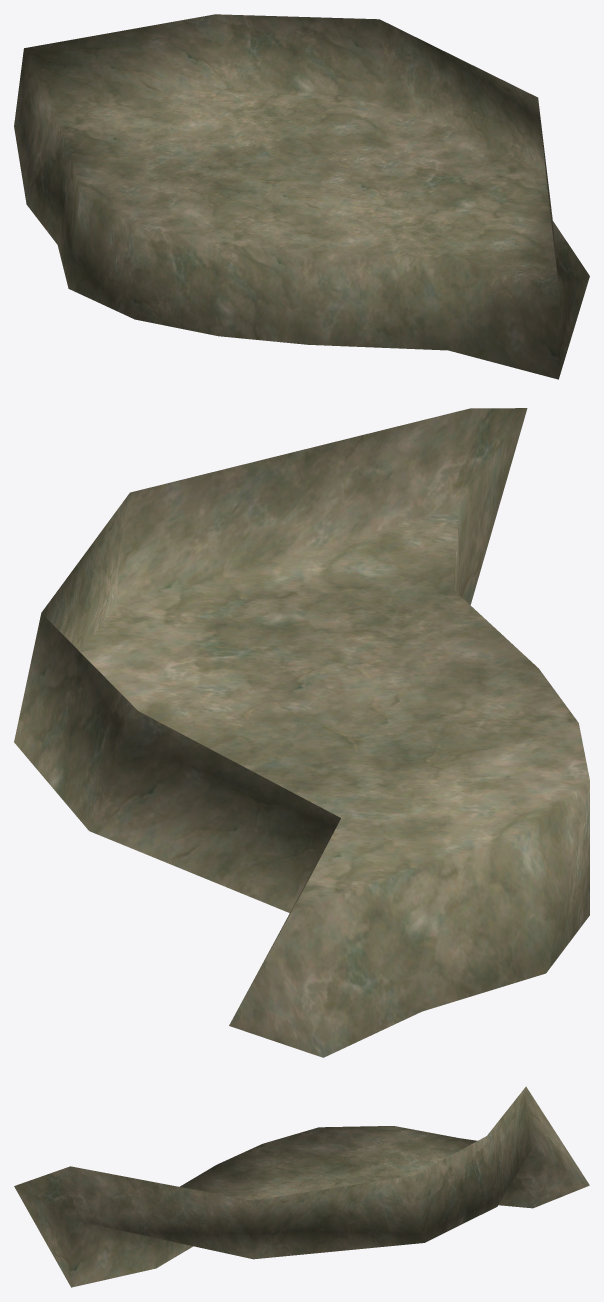
The model's file is EKH_THRONE_PS_TH_PLATFORM648.fbx.
3 renders of one model, top to bottom at view 1: azimuth 30°, elevation 25°; view 2: azimuth 150°, elevation 25°; view 3: azimuth 270°, elevation 25°, orthographic. The views are drawn at different scales.
Visible parts, largest first — view 1: EKH_THRONE_PS_TH_PLATFORM648; view 2: EKH_THRONE_PS_TH_PLATFORM648; view 3: EKH_THRONE_PS_TH_PLATFORM648.
Boxes of the visible parts, x1,y1,x2,y2 form: EKH_THRONE_PS_TH_PLATFORM648: (14,14,589,379); EKH_THRONE_PS_TH_PLATFORM648: (14,408,589,1057); EKH_THRONE_PS_TH_PLATFORM648: (14,1086,589,1287).
Size of the model in its own units: 28001 by 12370 by 49178.
Materials: 1 (1 with a texture image).
